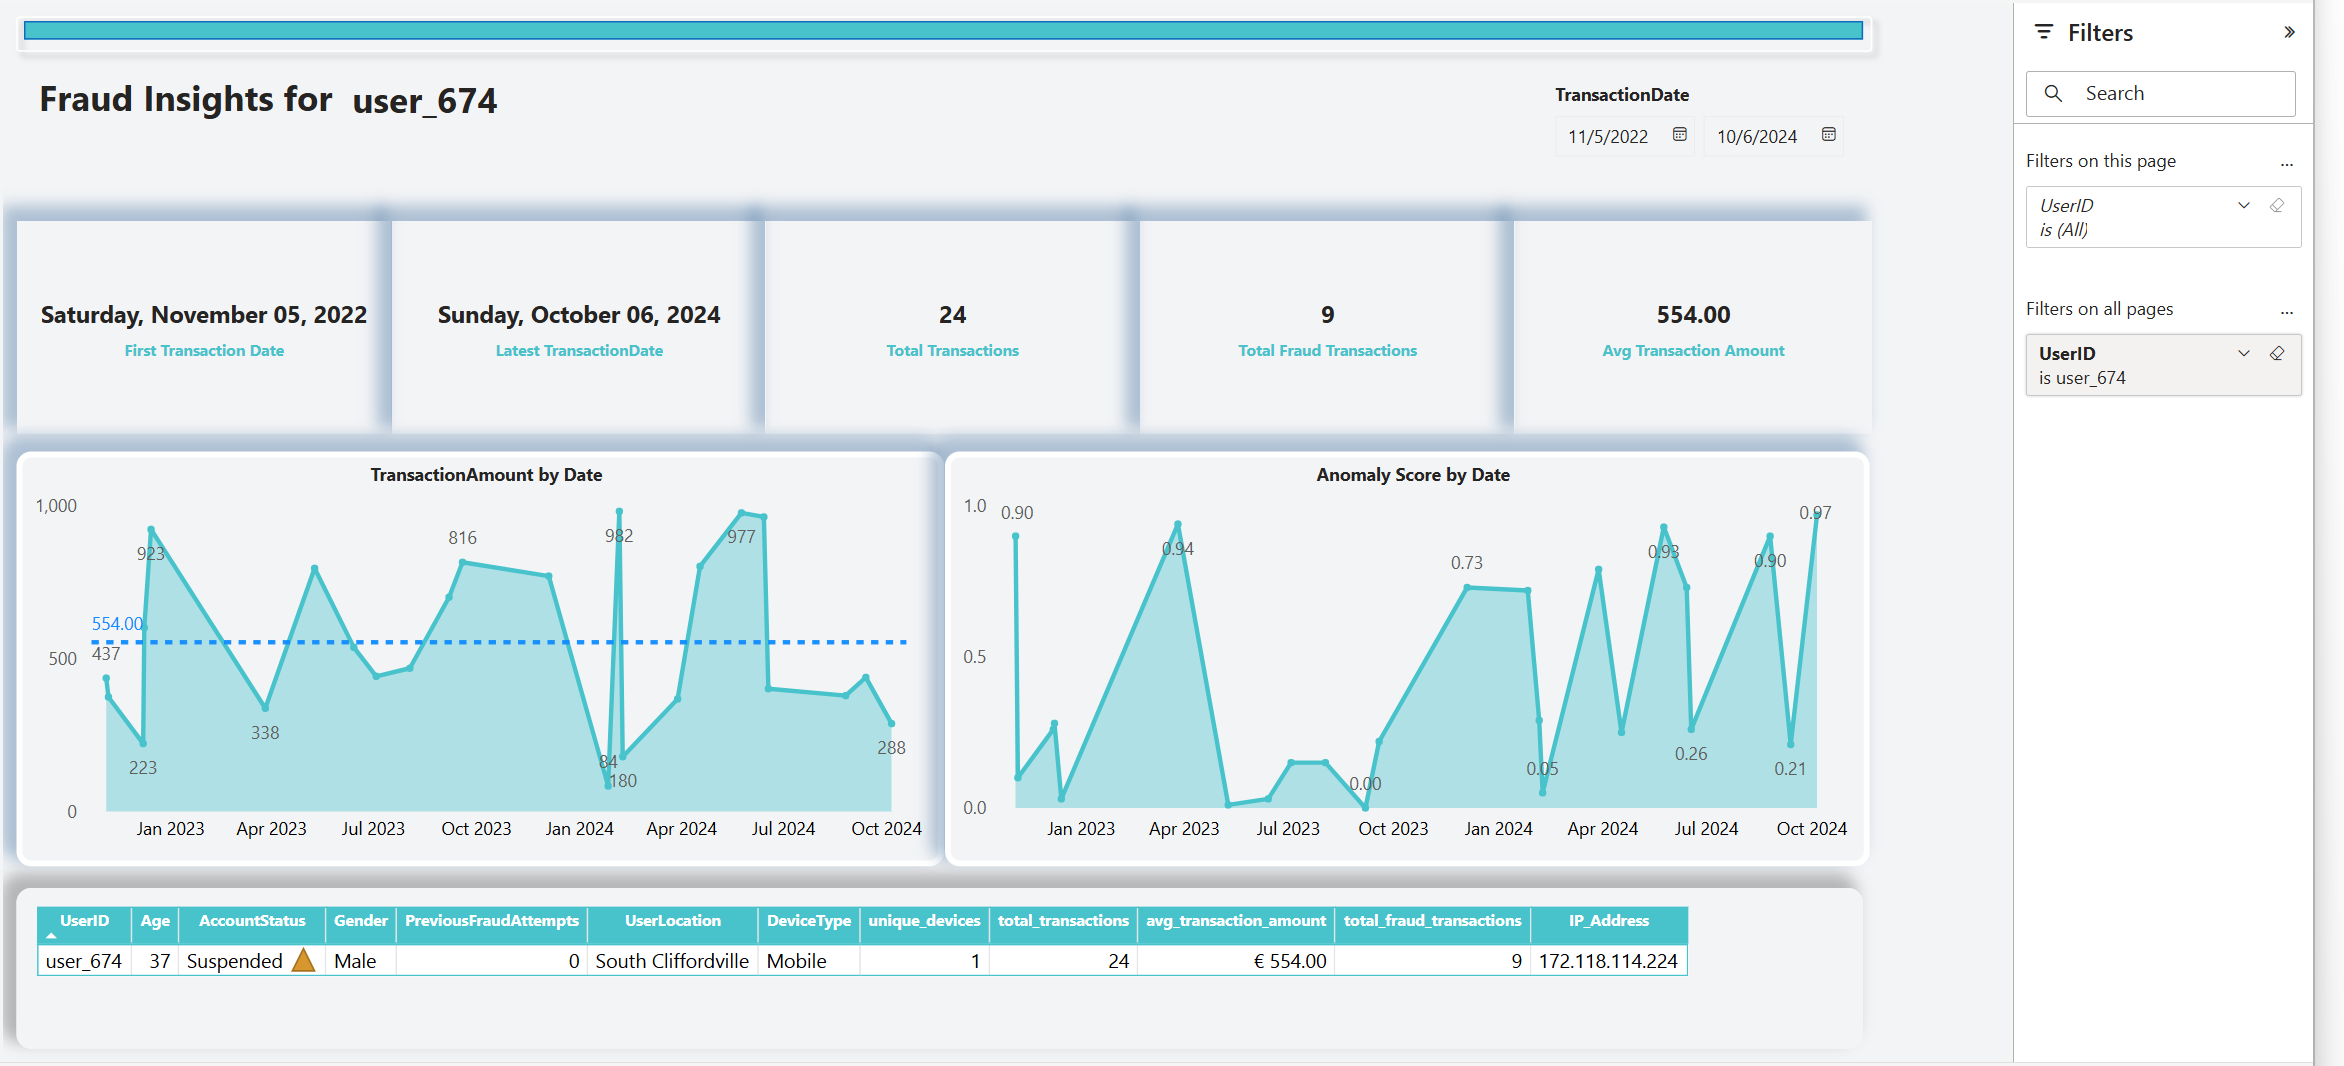

The dashboard page shown, as its layout file describes it:
{"tool":"powerbi","page":{"name":"User Fraud Insight","canvas":[1280,720],"ordinal":0},"visuals":[{"type":"card","fields":{"Values":["Min(transactions_fact.TransactionDate)"]},"box":[9.5,148.3,254.5,145.1],"z":0},{"type":"card","fields":{"Values":["Max(transactions_fact.TransactionDate)"]},"box":[264,148.3,254.5,145.1],"z":1000},{"type":"card","title":"User Analysis for","fields":{"Values":["Min(transactions_fact.UserID)"]},"box":[180.7,19.5,167.2,94],"z":2000},{"type":"card","fields":{"Values":["Avg(transactions_fact.TransactionAmount)"]},"box":[1027.4,148.3,244,145.1],"z":3000},{"type":"card","fields":{"Values":["Sum(transactions_fact.IsFraud)"]},"box":[772.9,148.3,254.5,145.1],"z":4000},{"type":"card","fields":{"Values":["Count(transactions_fact.TransactionID)"]},"box":[518.4,148.3,254.5,145.1],"z":5000},{"type":"tableEx","fields":{"Values":["user_behavior_metrics.UserID","Sum(users_dimension.Age)","users_dimension.AccountStatus","users_dimension.Gender","Sum(users_dimension.PreviousFraudAttempts)","users_dimension.UserLocation","devices_dimension.DeviceType","Sum(user_behavior_metrics.unique_devices)","Sum(user_behavior_metrics.total_transactions)","Sum(user_behavior_metrics.avg_transaction_amount)","Sum(user_behavior_metrics.total_fraud_transactions)","devices_dimension.IP_Address"]},"box":[9.5,601.5,1255.6,109.4],"z":6000},{"type":"lineChart","title":"TransactionAmount by Date","fields":{"Y":["Sum(transactions_fact.TransactionAmount)"],"Category":["transactions_fact.TransactionDate.Variation.Date Hierarchy.Year","transactions_fact.TransactionDate.Variation.Date Hierarchy.Quarter","transactions_fact.TransactionDate.Variation.Date Hierarchy.Month","transactions_fact.TransactionDate.Variation.Date Hierarchy.Day"]},"box":[9.5,305,631,281.8],"z":7000},{"type":"shape","box":[0,0,1279.8,42.1],"z":8000},{"type":"textbox","box":[18.9,42.1,276.6,86.2],"z":9000},{"type":"shape","box":[14.7,12.6,1250.4,12.6],"z":10000},{"type":"lineChart","title":"Anomaly Score by Date","fields":{"Category":["transactions_fact.TransactionDate.Variation.Date Hierarchy.Year","transactions_fact.TransactionDate.Variation.Date Hierarchy.Month","transactions_fact.TransactionDate.Variation.Date Hierarchy.Day"],"Y":["Sum(transactions_fact.AnomalyScore)"]},"box":[640.4,305,628.9,281.8],"z":11000},{"type":"slicer","fields":{"Values":["transactions_fact.TransactionDate"]},"box":[1042.2,49.4,229.3,112.5],"z":12000}]}

Visuals, with their boxes on the page's 1280x720 design canvas (x1, y1, x2, y2). These are canvas units, not pixel positions in the 2344x1066 screenshot, which may show the page scaled, cropped or inside an application window:
card - Min(transactions_fact.TransactionDate): [10, 148, 264, 293]
card - Max(transactions_fact.TransactionDate): [264, 148, 518, 293]
"User Analysis for" card: [181, 20, 348, 114]
card - Avg(transactions_fact.TransactionAmount): [1027, 148, 1271, 293]
card - Sum(transactions_fact.IsFraud): [773, 148, 1027, 293]
card - Count(transactions_fact.TransactionID): [518, 148, 773, 293]
tableEx - user_behavior_metrics.UserID x Sum(users_dimension.Age): [10, 602, 1265, 711]
"TransactionAmount by Date" lineChart: [10, 305, 640, 587]
shape: [0, 0, 1280, 42]
textbox: [19, 42, 296, 128]
shape: [15, 13, 1265, 25]
"Anomaly Score by Date" lineChart: [640, 305, 1269, 587]
slicer - transactions_fact.TransactionDate: [1042, 49, 1272, 162]
